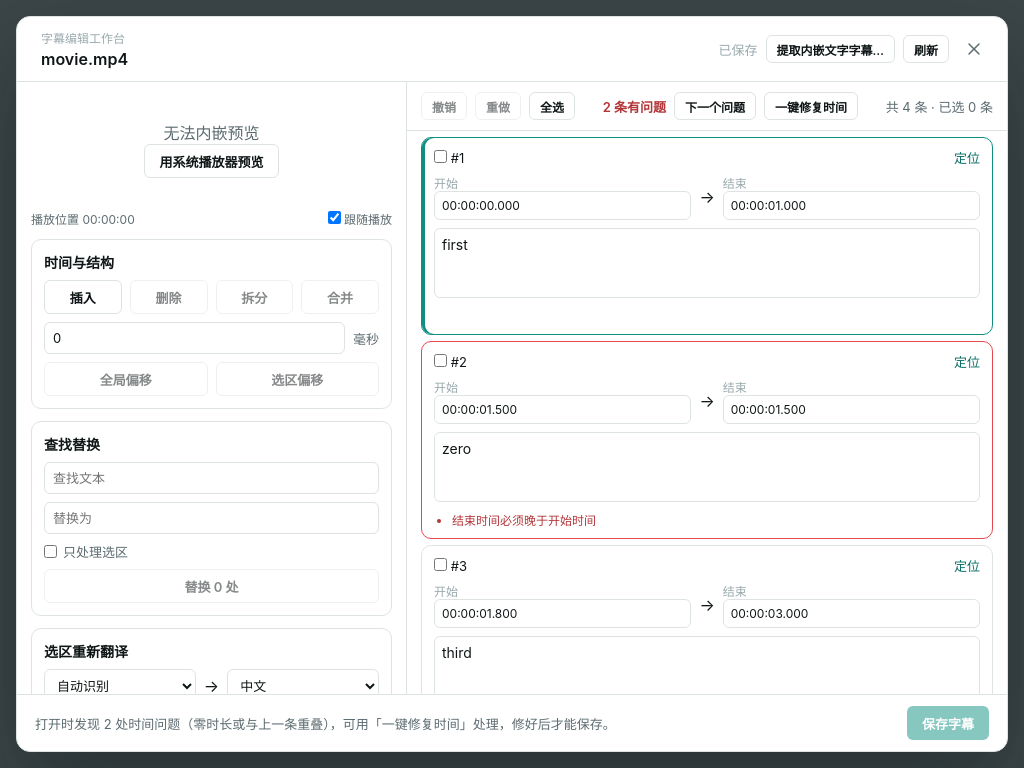
SubtitleWorkbench 容错（D-PC15） › MEDIA-06 零时长、重叠的字幕照样打开；「下一个问题」逐条跳，「一键修复时间」修好后可保存
Expected: the element with test id "workbench-issues" shows "2 条有问题", [603,98,666,114]
Expected: the button with test id "save-subtitle" is disabled, [907,706,989,740]
What coordinates should you click on to do the following:
click the button with test id "workbench-next-issue"
I would click on:
 (715, 106)
Its box is [674,92,756,120].
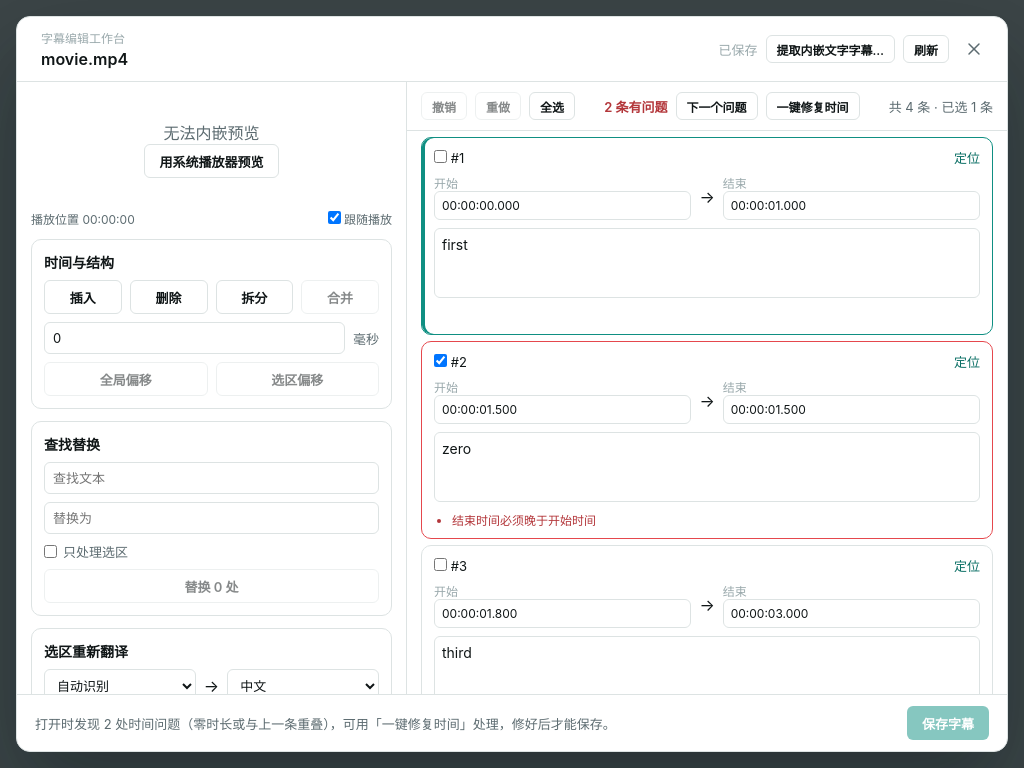
What coordinates should you click on to do the following:
click the button with test id "workbench-next-issue"
I would click on:
 (716, 106)
Its box is [676,92,758,120].
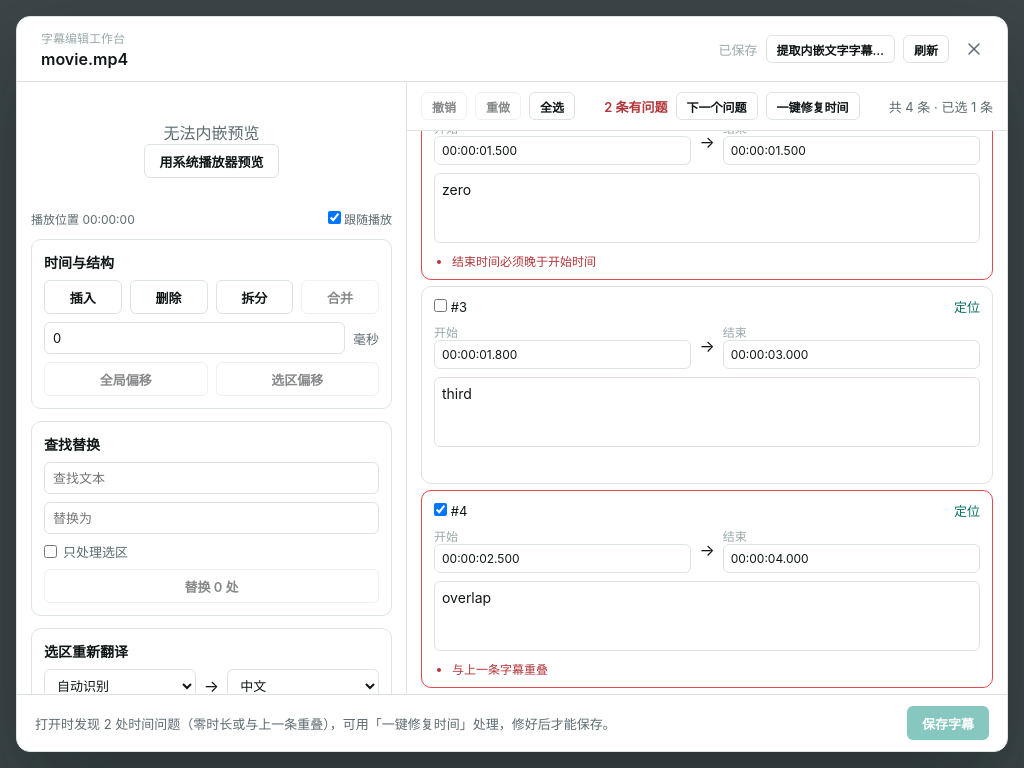
What coordinates should you click on to do the following:
click the button with test id "workbench-next-issue"
I would click on:
 (716, 106)
Its box is [676,92,758,120].
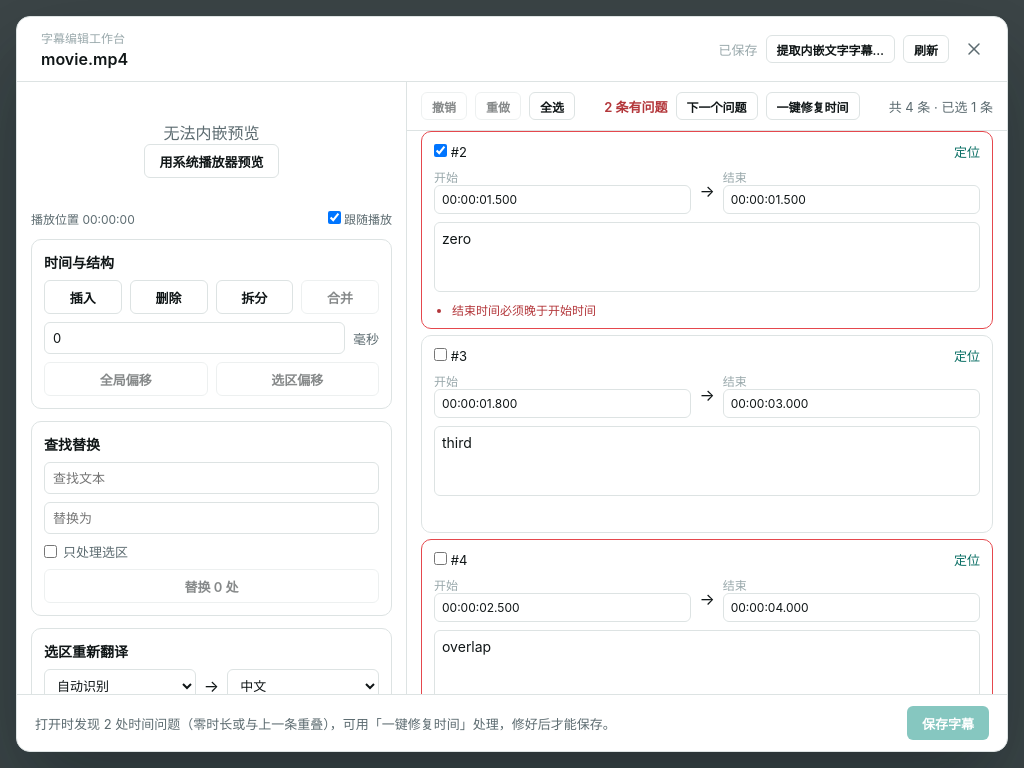
What coordinates should you click on to do the following:
click the button with test id "workbench-fix-timing"
I would click on:
 (812, 106)
Its box is [766,92,860,120].
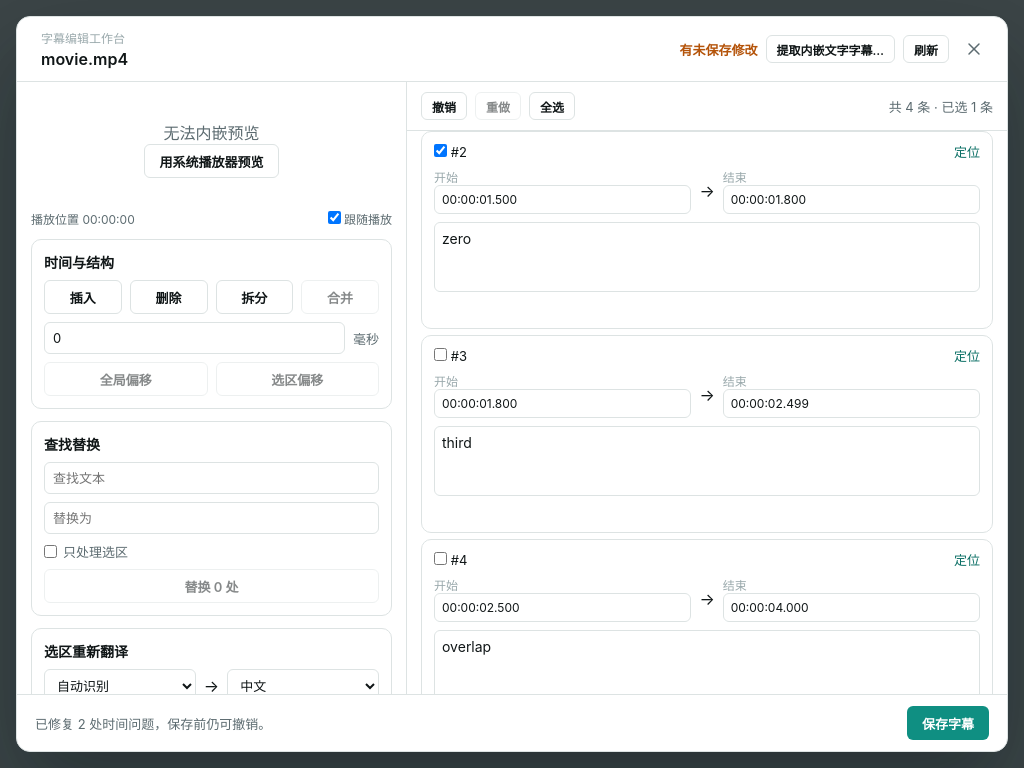
Result: the button with test id "save-subtitle" is enabled at [907,706,989,740]
